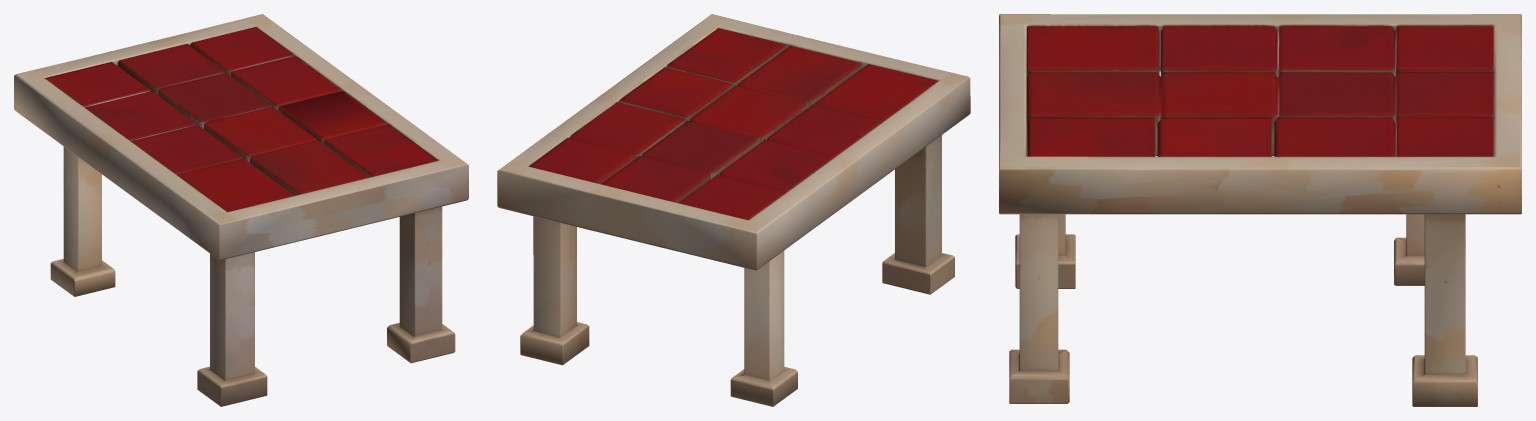
3 views of the same model, side by side, from view 1: azimuth 30°, elevation 25°; view 2: azimuth 150°, elevation 25°; view 3: azimuth 270°, elevation 25° (orthographic). The views are drawn at different scales.
Parts seen in each view (by area): view 1: tripo_node_65881859-5ec8-4a5a-95ee-ea4f3bbe1815; view 2: tripo_node_65881859-5ec8-4a5a-95ee-ea4f3bbe1815; view 3: tripo_node_65881859-5ec8-4a5a-95ee-ea4f3bbe1815.
Part boxes in pixels (<box>): tripo_node_65881859-5ec8-4a5a-95ee-ea4f3bbe1815: <box>14,14,468,406</box>; tripo_node_65881859-5ec8-4a5a-95ee-ea4f3bbe1815: <box>497,14,970,406</box>; tripo_node_65881859-5ec8-4a5a-95ee-ea4f3bbe1815: <box>999,14,1521,406</box>.
Bounding box in the file's own units: 0.7012 × 0.5098 × 0.998.
Materials: 1 (1 with a texture image).
